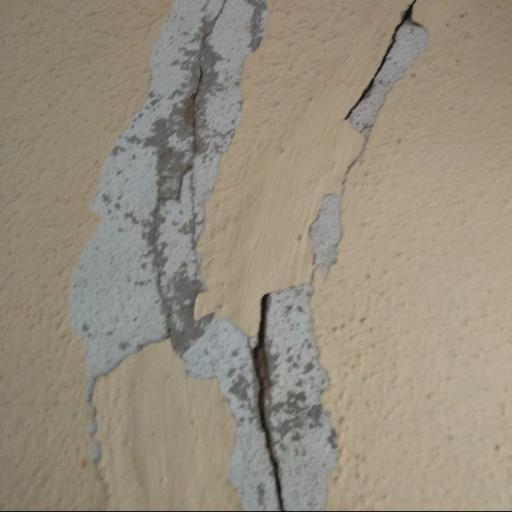peeling: (64, 0, 429, 512)
